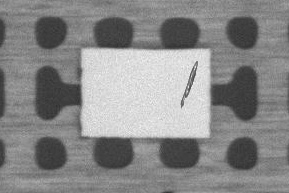DIE_INK: (178, 59, 199, 107)
